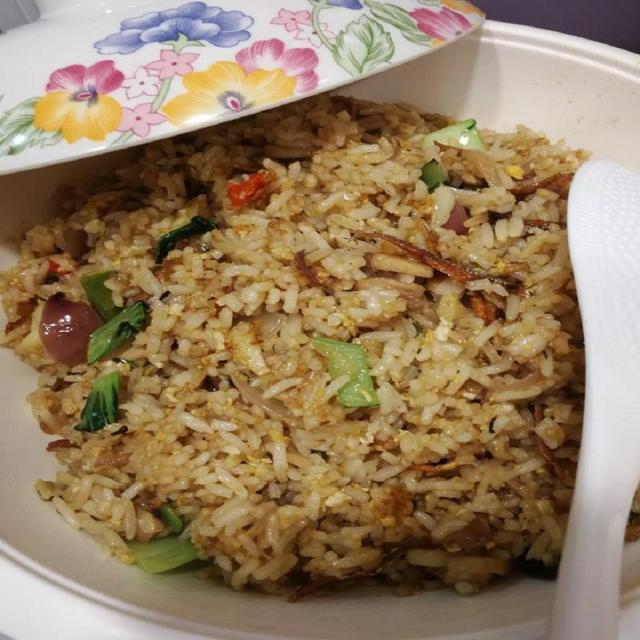Nasi Goreng: (3, 95, 594, 600)
